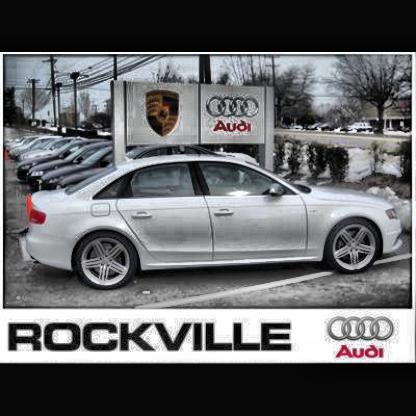Audi S4 Sedan 2012: (21, 142, 405, 288)
